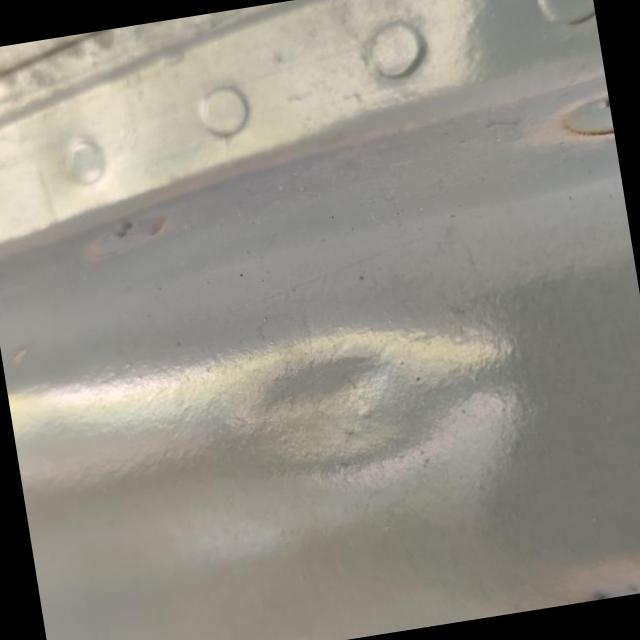Dent: (192, 320, 524, 510)
